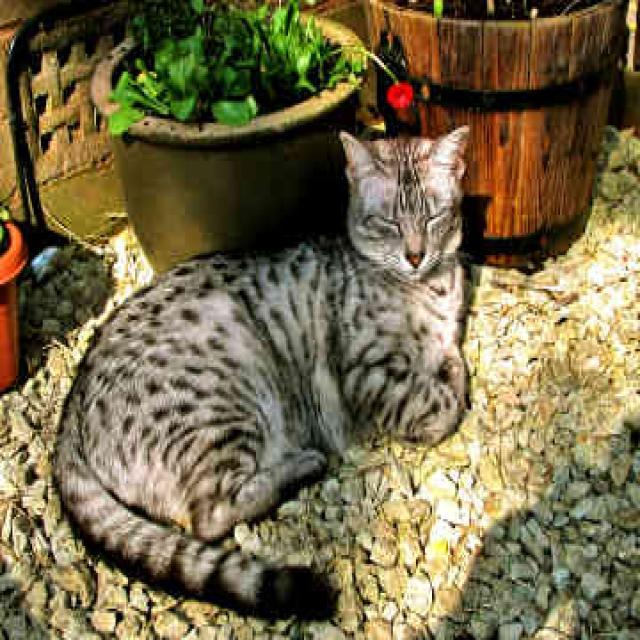Egyptian_Mau: (338, 118, 471, 302)
